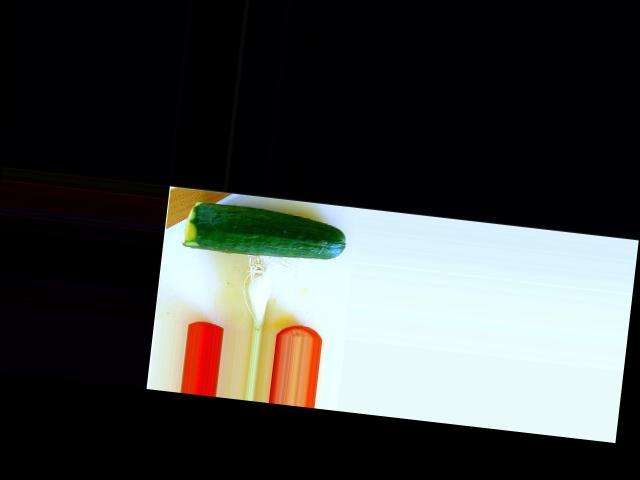cucumber: (182, 199, 350, 265)
